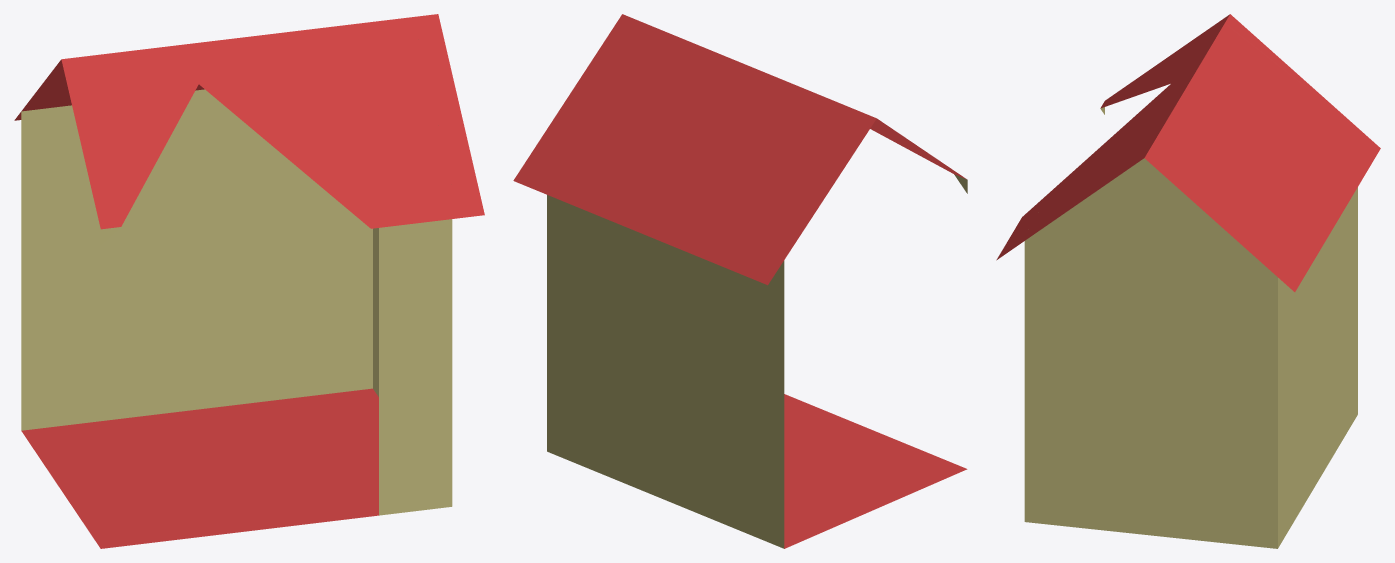
The picture shows the model from 3 angles, left to right: view 1: azimuth 30°, elevation 25°; view 2: azimuth 150°, elevation 25°; view 3: azimuth 270°, elevation 25°; orthographic projection. The views are drawn at different scales.
Bounding box in the file's own units: 13.04 × 12.22 × 13.56.
